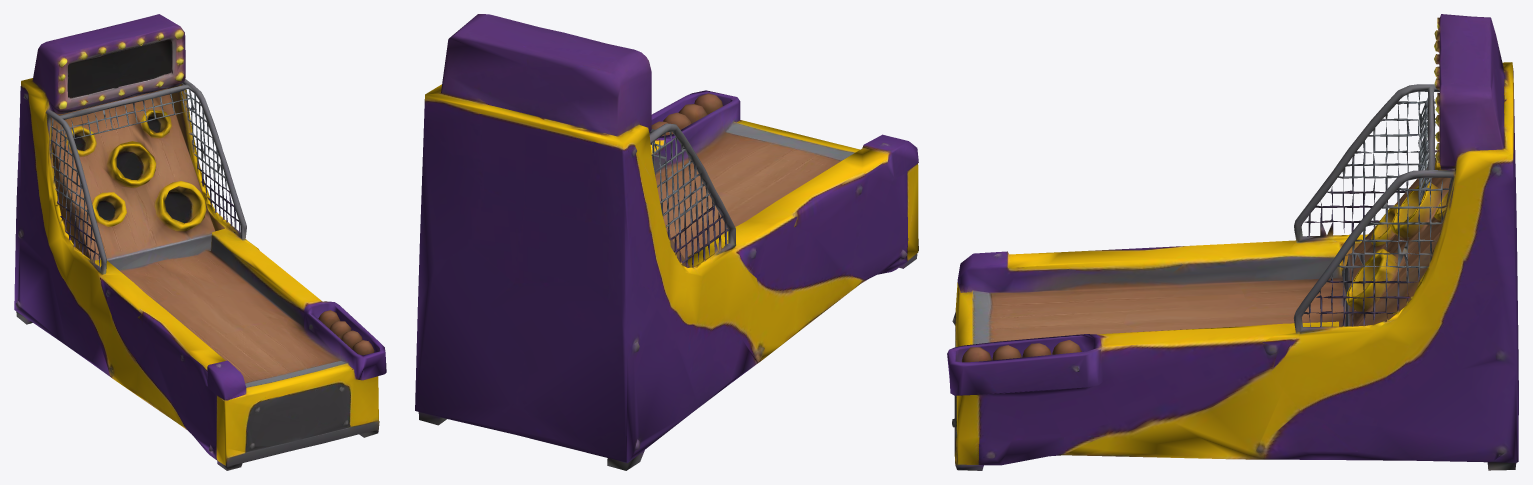
The model's file is roller.glb.
3 views of the same model, side by side, from view 1: azimuth 30°, elevation 25°; view 2: azimuth 150°, elevation 25°; view 3: azimuth 270°, elevation 25° (orthographic). The views are drawn at different scales.
Parts seen in each view (by area): view 1: tripo_node_29aa997b-0b74-4a05-9ad6-6b4abf293d11; view 2: tripo_node_29aa997b-0b74-4a05-9ad6-6b4abf293d11; view 3: tripo_node_29aa997b-0b74-4a05-9ad6-6b4abf293d11.
Boxes of the visible parts, x1=… form: tripo_node_29aa997b-0b74-4a05-9ad6-6b4abf293d11: x1=14, y1=14, x2=386, y2=470; tripo_node_29aa997b-0b74-4a05-9ad6-6b4abf293d11: x1=415, y1=14, x2=918, y2=470; tripo_node_29aa997b-0b74-4a05-9ad6-6b4abf293d11: x1=947, y1=14, x2=1518, y2=470.
Bounding box in the file's own units: 0.4396 × 0.7043 × 0.9805.
1 material, 1 textured.
